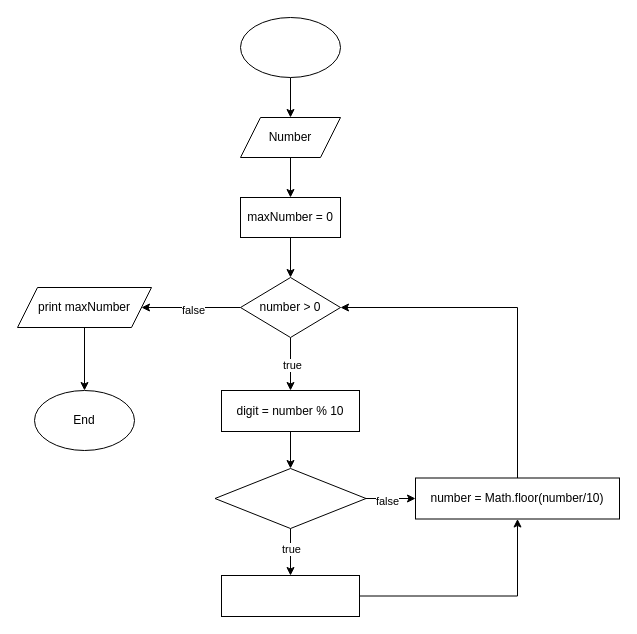
Some shapes in this 637 by 634 pixel diagram are drawn without their labels. The box of each missing label's shape, as (x1, y1, x2, y2) in pixels:
digit > maxNumber: (214, 468, 366, 528)
maxNumber = digit: (220, 574, 360, 616)
Start: (240, 16, 340, 78)
